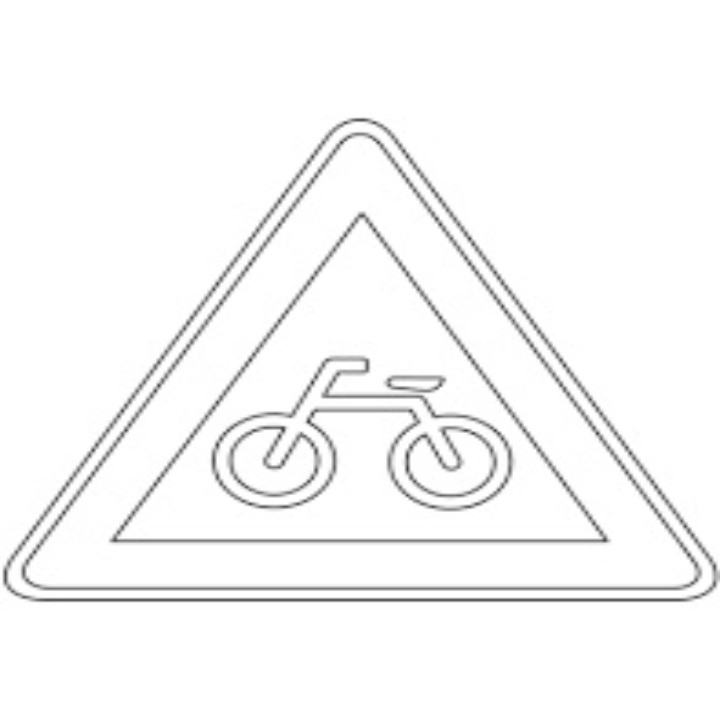bicycle: (197, 279, 523, 605)
